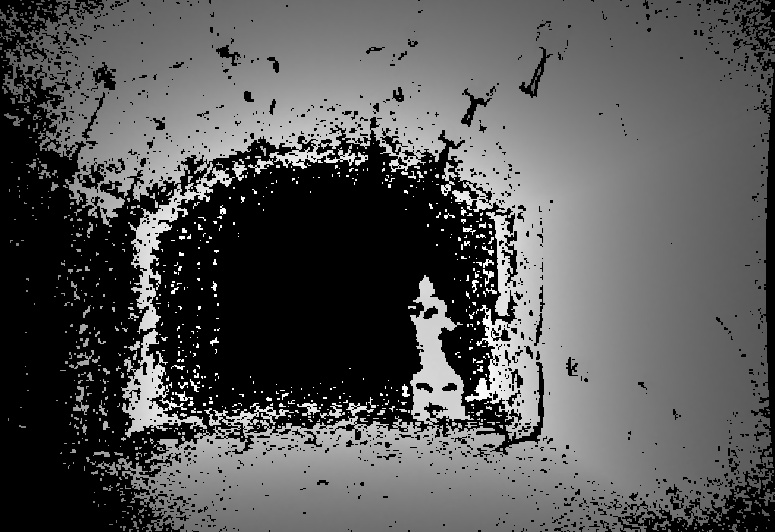person: (407, 275, 464, 418)
